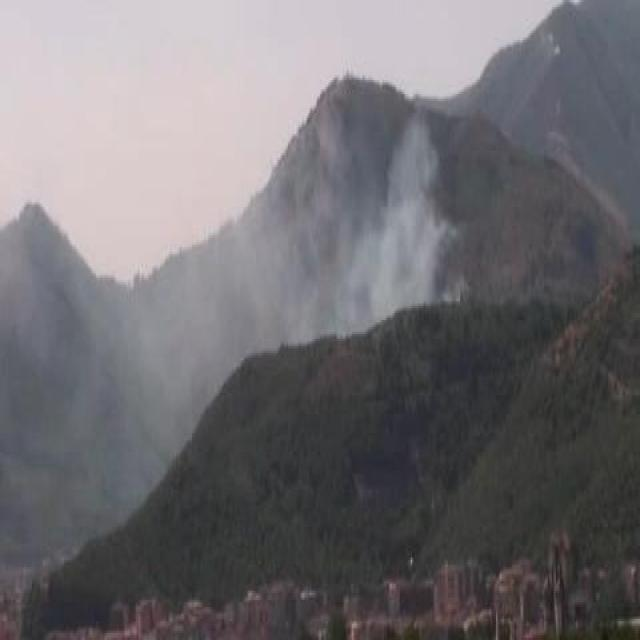Smoke: (251, 109, 444, 345), (27, 281, 195, 453)
